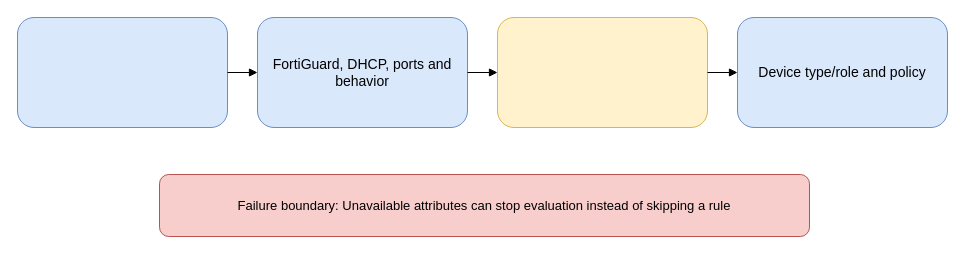
Image size: 965x254. Some labels were removed from this diagram. Here are the shapes that lost their labels. From the top down, the box of each, then its label:
(16, 16, 228, 128): Endpoint appears; MAC/OUI
(496, 16, 708, 128): Ranked profile rule evaluation
